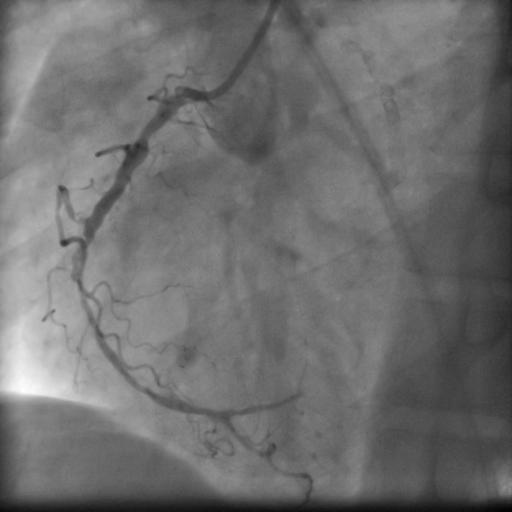Stenosis: (135, 115, 160, 145)
